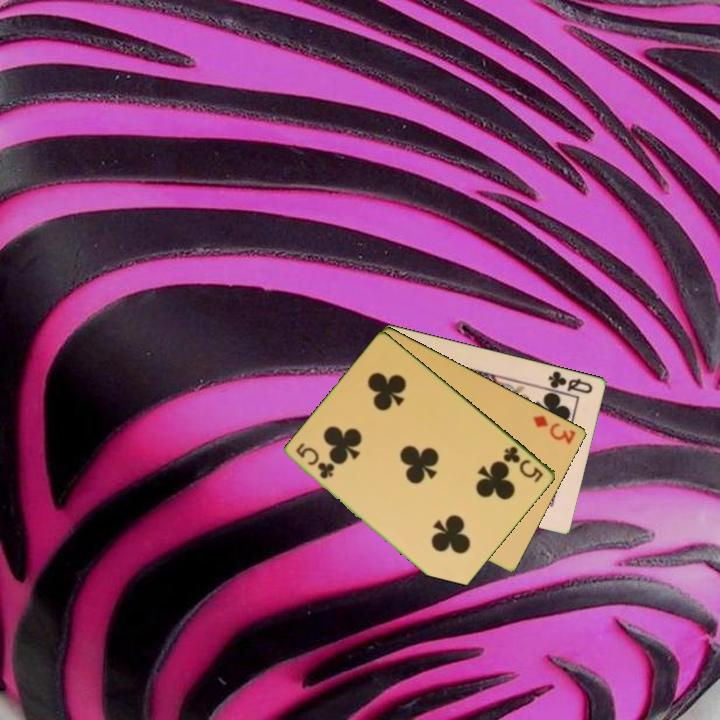3d: (529, 412, 579, 447)
5c: (500, 442, 547, 485), (293, 440, 337, 482)
Qc: (541, 367, 596, 396)
